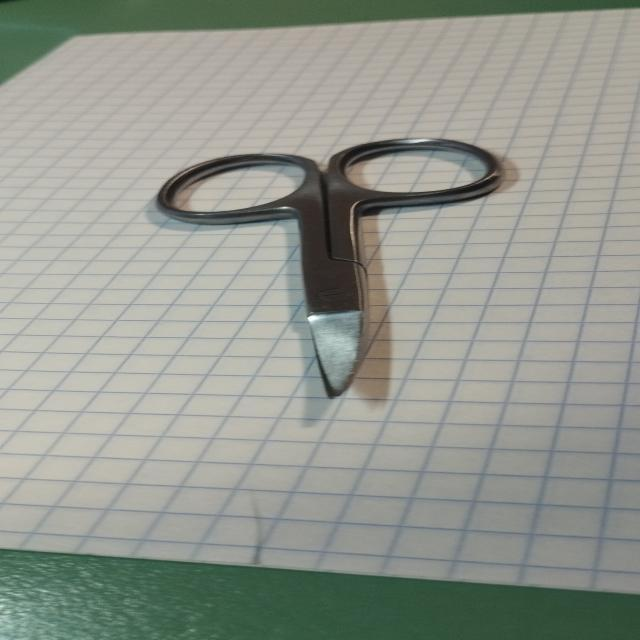tesoura: (140, 132, 526, 405)
